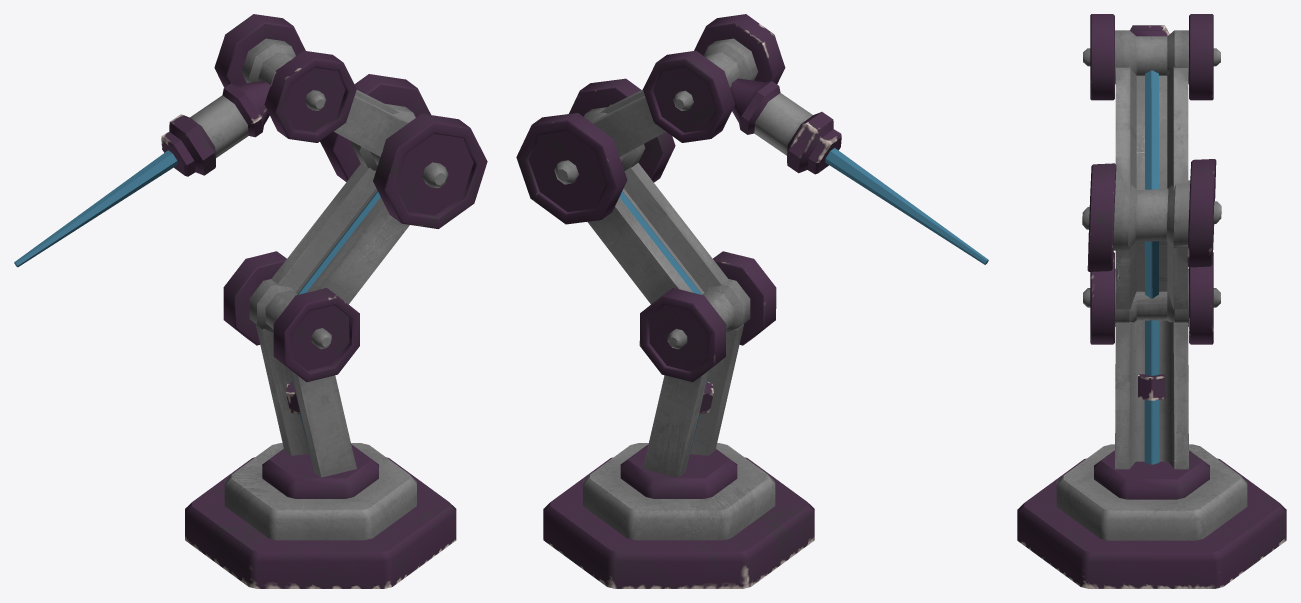
The model's file is SM_Props_32.fbx.
The picture shows the model from 3 angles, left to right: view 1: azimuth 30°, elevation 25°; view 2: azimuth 150°, elevation 25°; view 3: azimuth 270°, elevation 25°; orthographic projection.
Parts seen in each view (by area): view 1: SM_Props_32; view 2: SM_Props_32; view 3: SM_Props_32.
Part boxes in pixels (bbox=[...]): SM_Props_32: bbox=[14, 14, 487, 588]; SM_Props_32: bbox=[516, 14, 988, 588]; SM_Props_32: bbox=[1017, 14, 1286, 588].
Bounding box in the file's own units: 47.25 × 25.09 × 52.11.
1 material, 1 textured.
